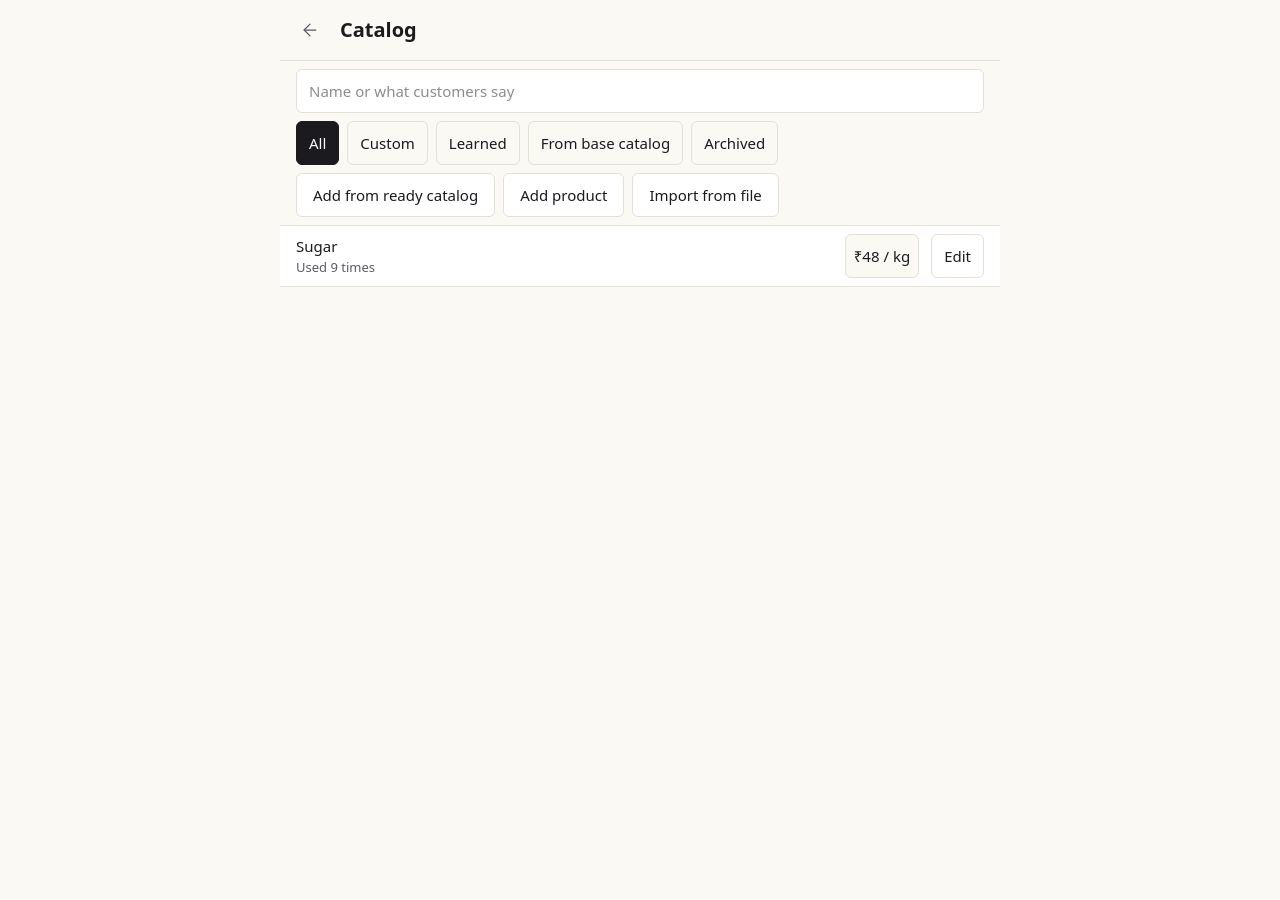
the Catalog › an archived product offers Restore, and the empty states are said - in en
Check: the list named "Products" is shown, box [280,226,1000,287]
Click the radio button "Archived". click: (735, 143)
box: [691,121,778,165]
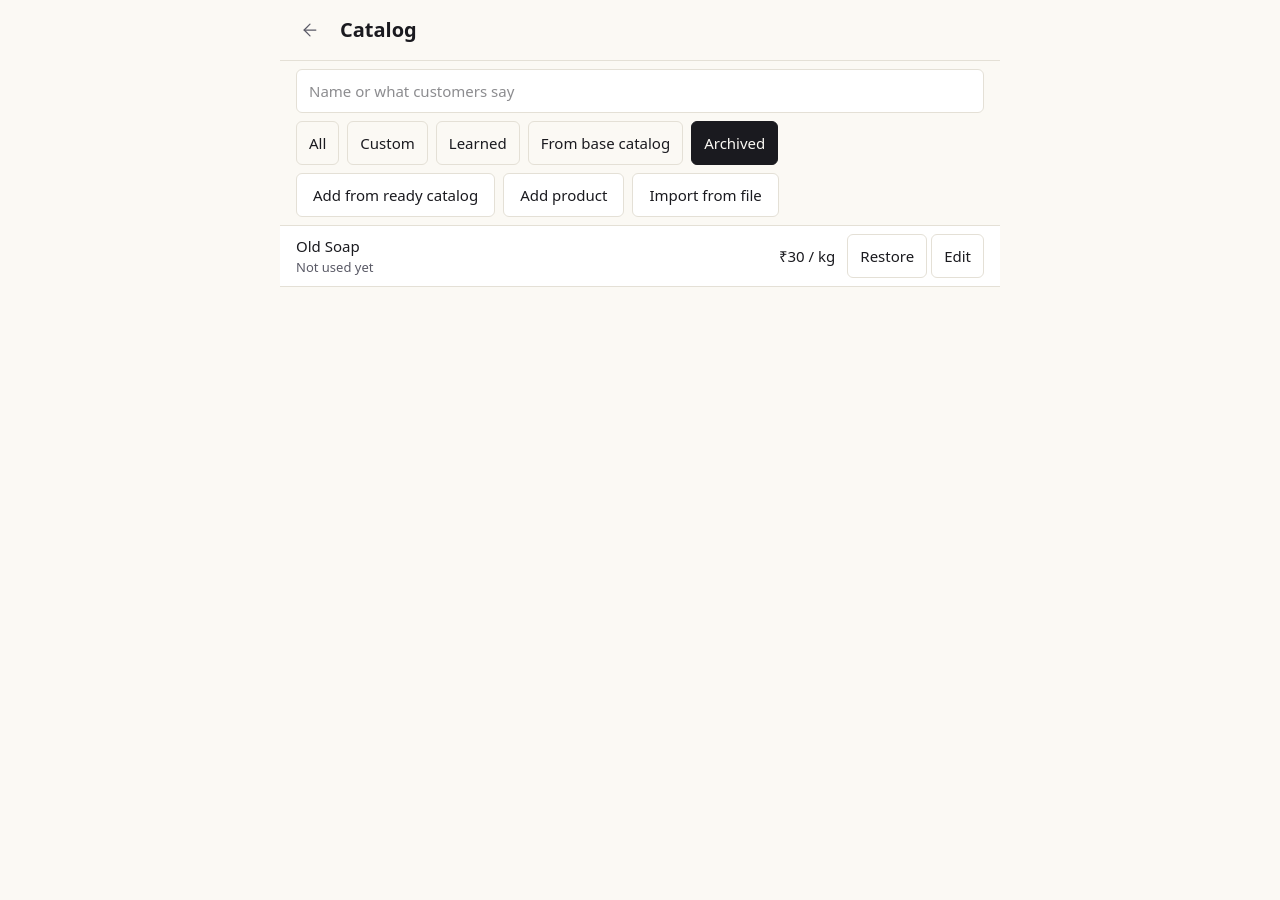
Type "zzzz" into the search field. click: (640, 91)
box: [296,69,984,113]
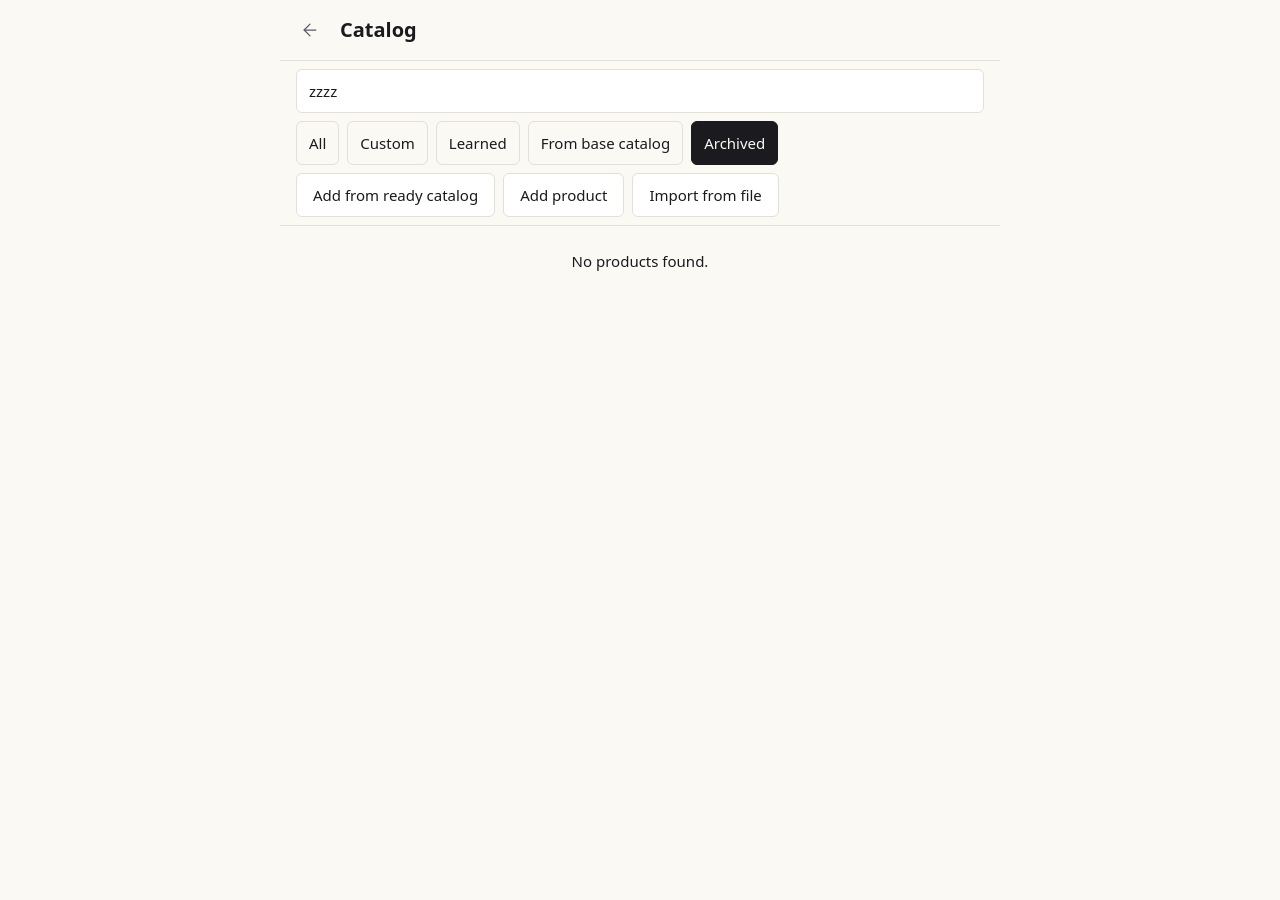
Check: the text "No products found." is shown, box [572,251,708,271]
